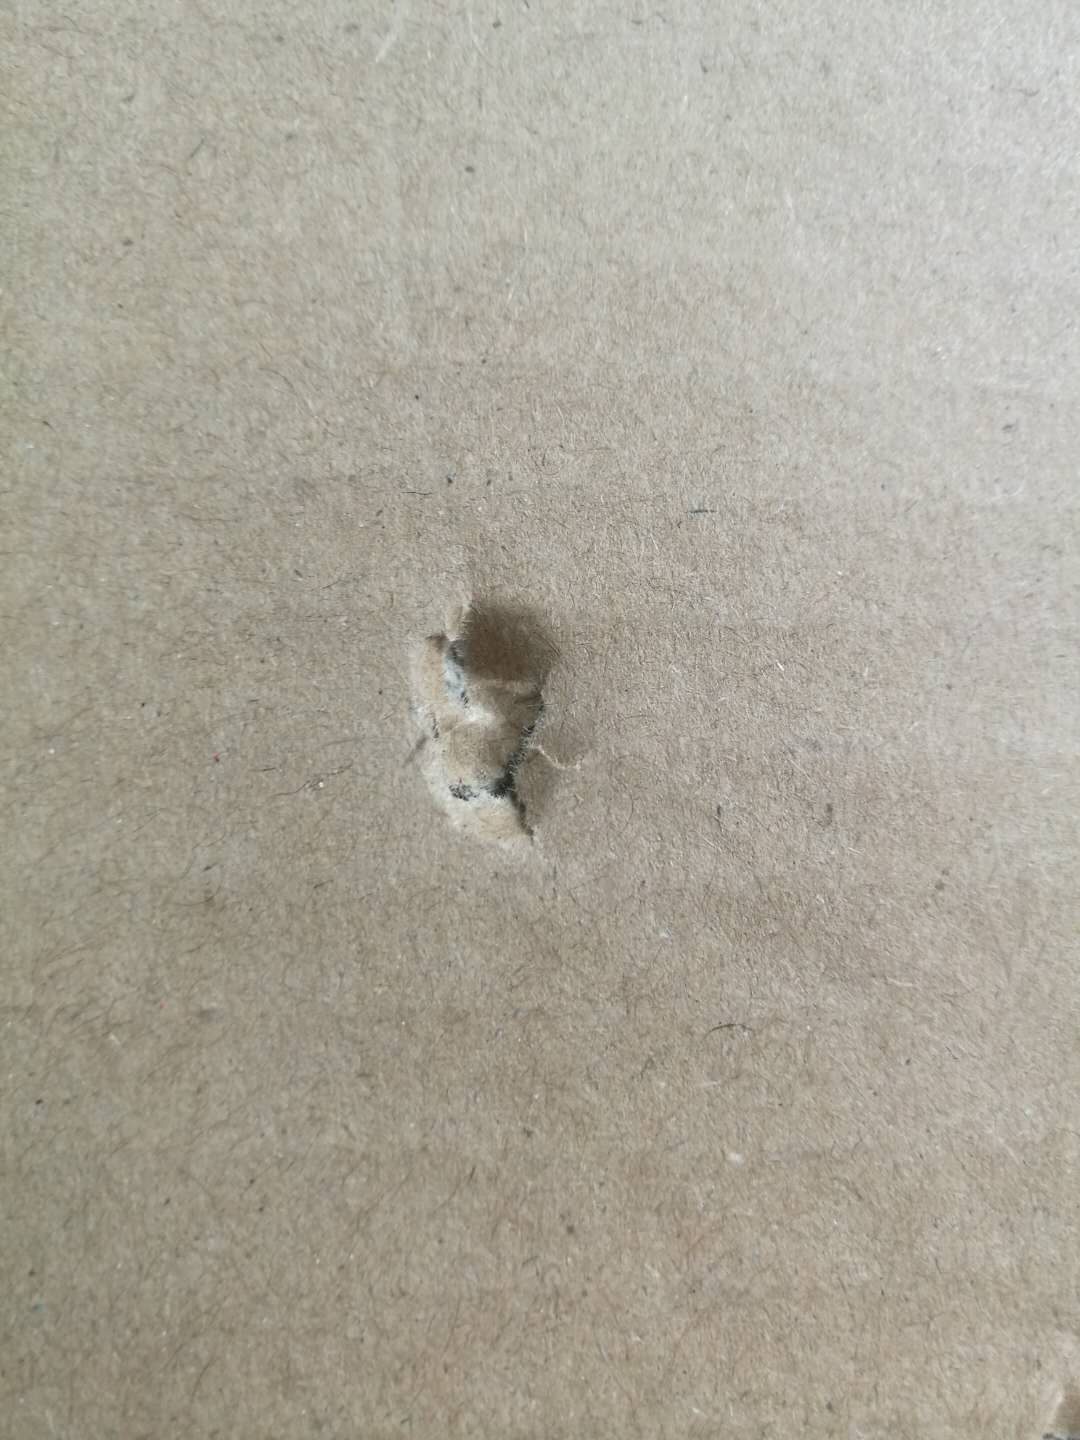defect: (376, 559, 635, 899)
